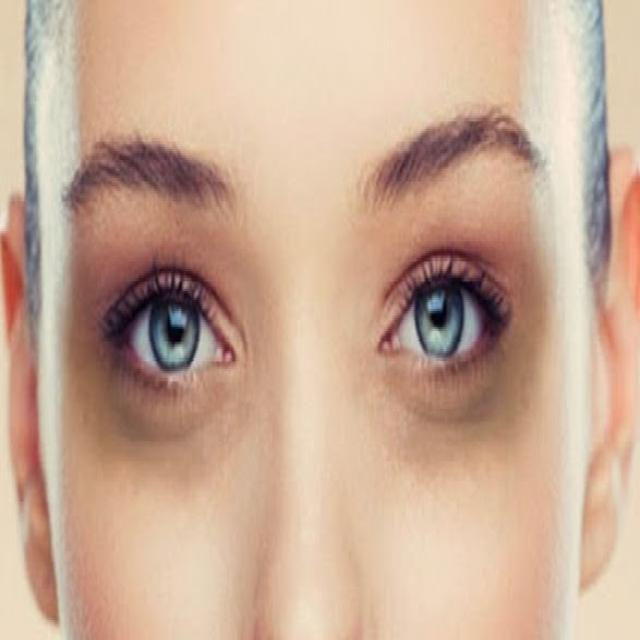Eyebags: (353, 219, 552, 472), (57, 244, 257, 491)
